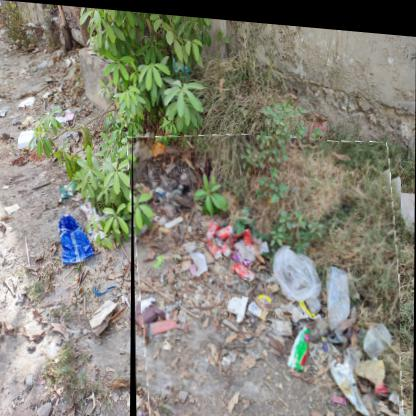Garbage: (131, 122, 404, 416)
